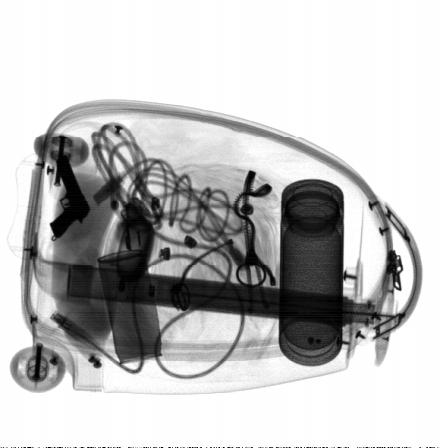Gun: (48, 153, 91, 242)
